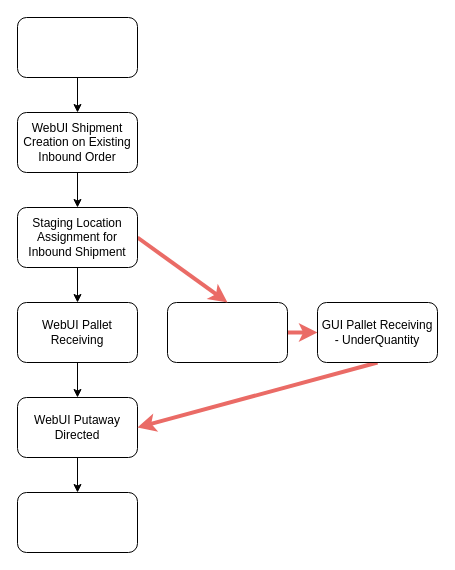
Some shapes in this 455 by 570 pixel diagram are drawn without their labels. The shapes that lost their labels are listed below. From the top down, each one's box as (x1, y1, x2, y2) in pixels, then its label:
(16, 16, 138, 78): WebUI Inbound Order Creation
(166, 302, 288, 362): GUI Pallet Receiving - OverQuantity
(16, 492, 138, 552): WebUI Inbound Shipment Completion
